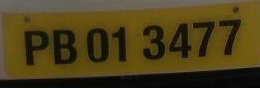character: (23, 29, 50, 67), (52, 27, 78, 65), (168, 23, 192, 59), (85, 27, 108, 63), (218, 19, 241, 55), (191, 21, 214, 56), (142, 25, 164, 60), (113, 25, 127, 63)
